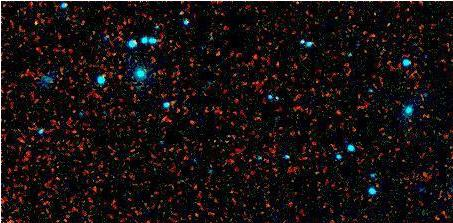star: (21, 5, 51, 35)
